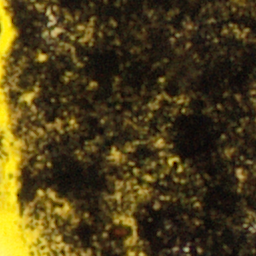cement_matrix: (6, 0, 255, 255), (58, 204, 69, 215), (23, 93, 32, 103), (122, 216, 130, 223), (55, 251, 61, 255)
cracks: (0, 0, 65, 255), (59, 205, 68, 214), (123, 217, 129, 222)
gravel_crushed_stones: (24, 94, 31, 102)
